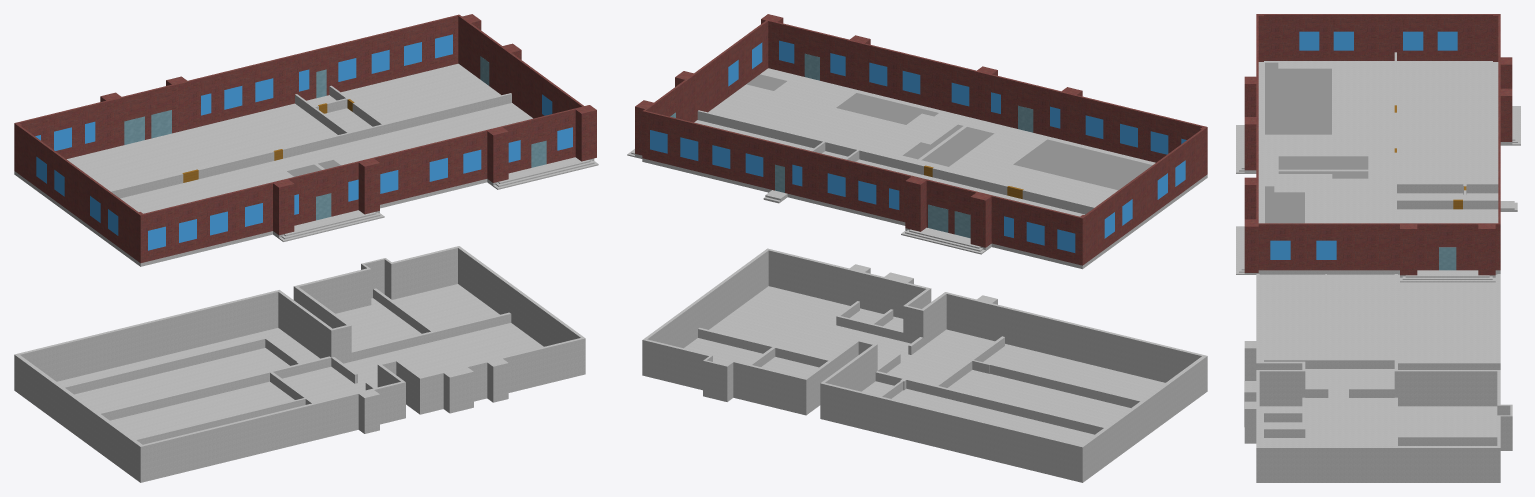
Rendered from Dosing_Building_expansion.glb.
3 renders of one model, left to right at view 1: azimuth 30°, elevation 25°; view 2: azimuth 150°, elevation 25°; view 3: azimuth 270°, elevation 25°, orthographic. The views are drawn at different scales.
Parts seen in each view (by area): view 1: Floor1, Basement1; view 2: Floor1, Basement1; view 3: Floor1, Basement1.
Part boxes in pixels (left/top/right/bottom): Floor1: left=14, top=14, right=598, bottom=266; Basement1: left=14, top=246, right=585, bottom=482; Floor1: left=627, top=14, right=1207, bottom=269; Basement1: left=642, top=248, right=1207, bottom=482; Floor1: left=1236, top=14, right=1520, bottom=282; Basement1: left=1244, top=274, right=1512, bottom=482.
Size of the model in its own units: 53.84 by 29.7 by 29.64.
6 materials, 5 textured.
